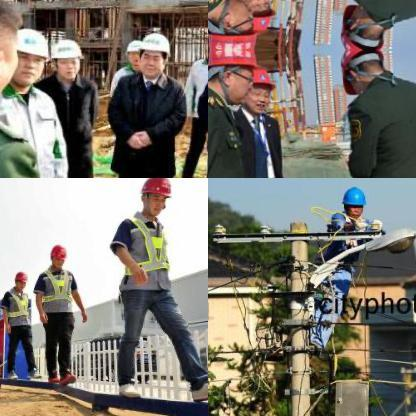Helmet: (208, 49, 266, 107), (208, 0, 267, 50), (7, 26, 53, 84), (336, 50, 390, 96), (336, 2, 390, 48), (47, 32, 84, 82), (132, 27, 170, 74), (242, 67, 274, 111), (138, 178, 172, 213), (241, 0, 275, 33), (120, 31, 146, 66), (340, 182, 366, 216), (48, 241, 66, 267), (12, 270, 26, 288)
